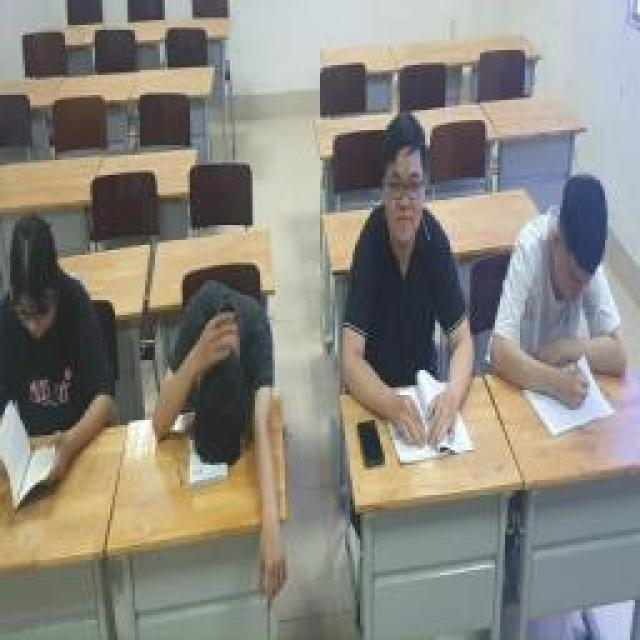sleep: (153, 282, 285, 588)
study: (350, 115, 480, 447), (0, 210, 110, 495), (490, 172, 620, 412)
